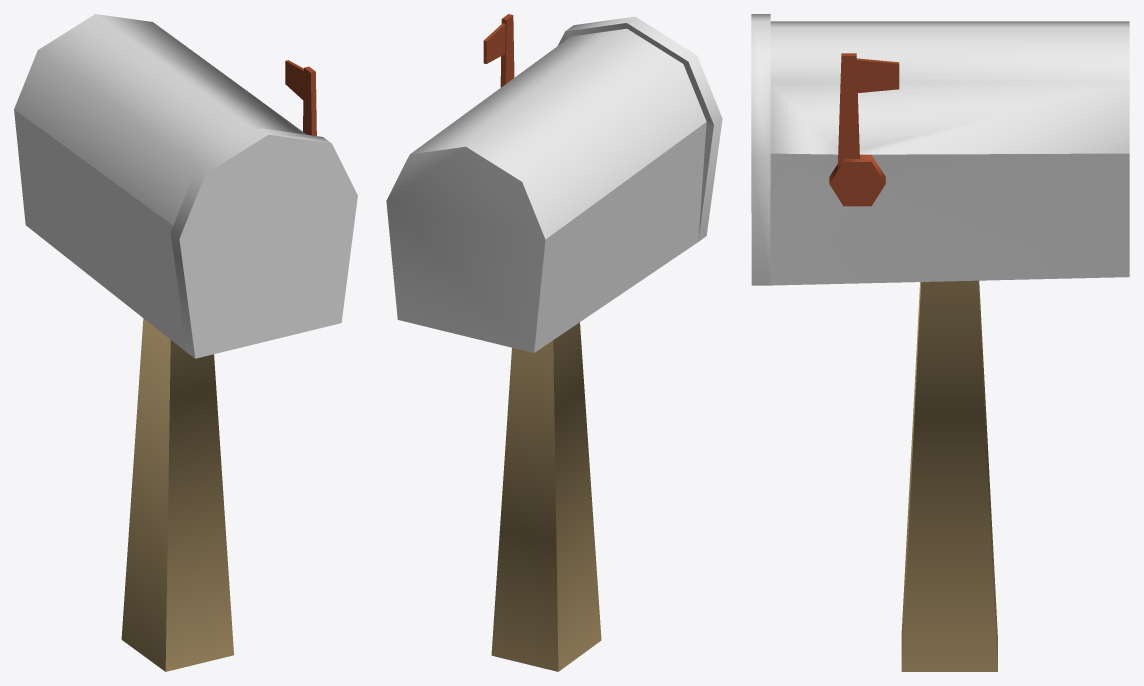
Rendered from Mailbox_Unwrapped.fbx.
3 renders of one model, left to right at view 1: azimuth 30°, elevation 25°; view 2: azimuth 150°, elevation 25°; view 3: azimuth 270°, elevation 25°, orthographic. The views are drawn at different scales.
Parts seen in each view (by area): view 1: mailbox; view 2: mailbox; view 3: mailbox.
Boxes of the visible parts, x1,y1,x2,y2 form: mailbox: (14,14,357,671); mailbox: (386,14,722,671); mailbox: (751,14,1129,671).
Size of the model in its own units: 18.55 by 57.54 by 30.6.
